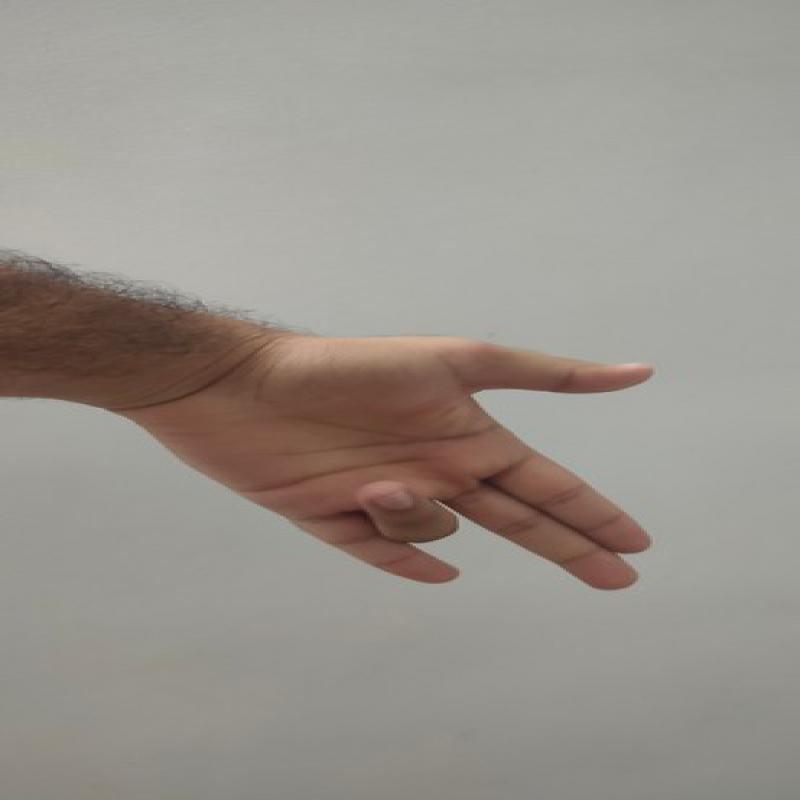Pathaaka: (168, 316, 676, 622)
